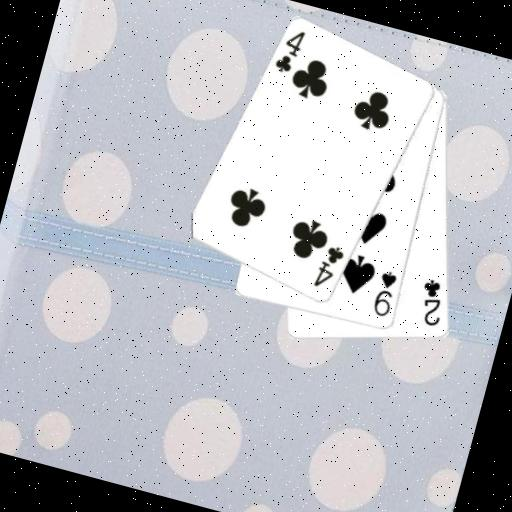2C: (411, 274, 452, 330)
4C: (270, 23, 309, 78), (310, 240, 347, 293)
9S: (368, 266, 402, 320)
